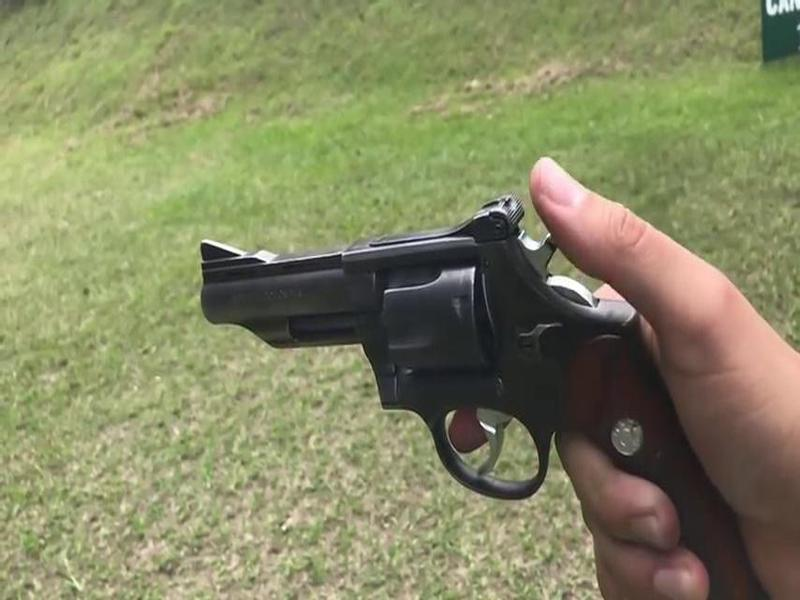Revolver: (167, 179, 729, 541)
